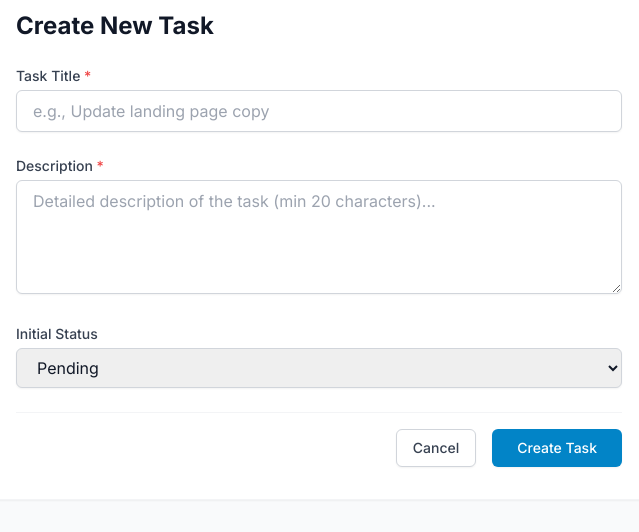
TaskForm Component › shows validation errors when fields are empty
The image size is (639, 532).
Submit form without filling fields
Click the button "Create Task" at coordinates (557, 448), box [492,429,622,467]
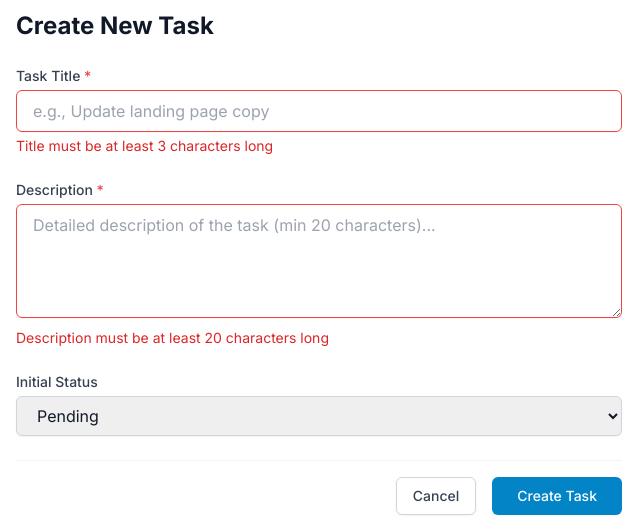
expect the text "Title must be at least 3 characters long" is shown: met, box [16,137,273,154]
expect the text "Description must be at least 20 characters long" is shown: met, box [16,329,329,346]
